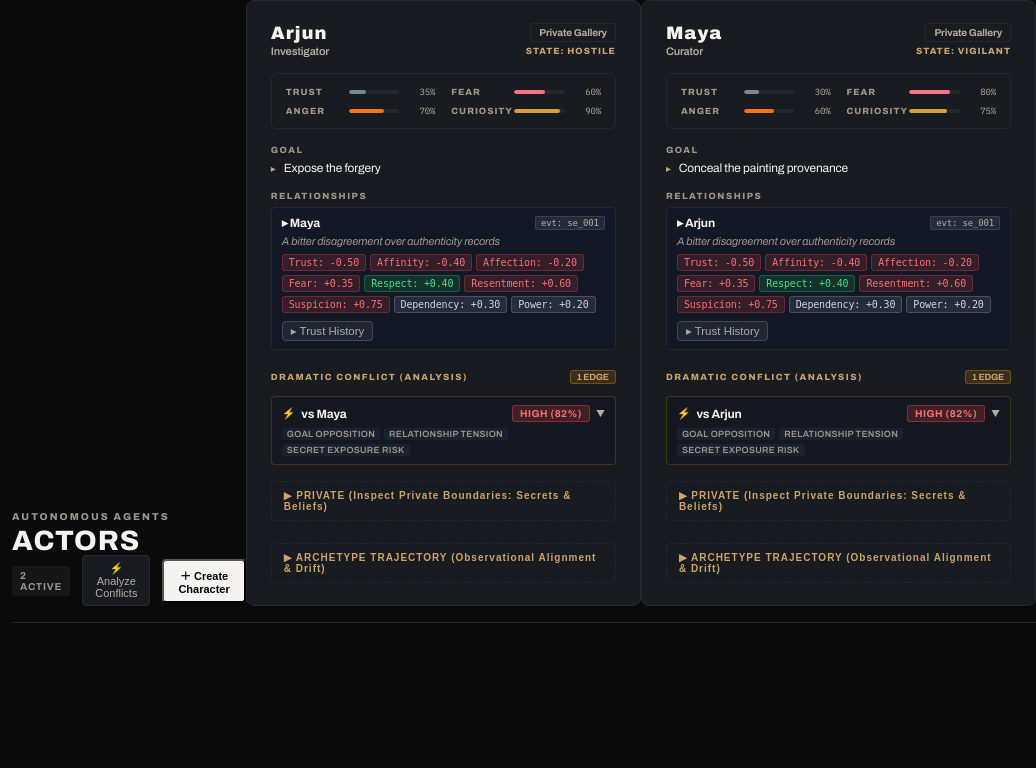
Scenario: Phase D: Conflict Engine & Multidimensional Relationships Frontend › expands and collapses traceable conflict evidence on click
Expected: the text "TRACEABLE CONFLICT EVIDENCE" is not shown
Click to expand evidence
Click the text "vs Maya": (324, 414) 301,407 -> 347,421
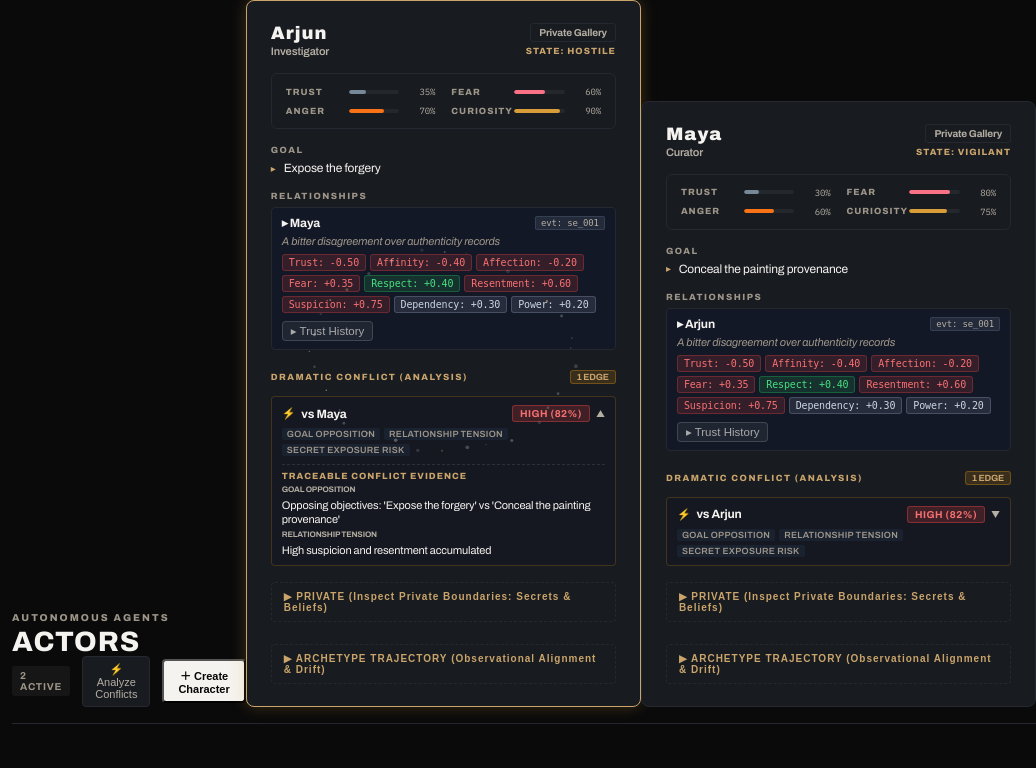
Now the text "TRACEABLE CONFLICT EVIDENCE" is shown, box 282,471 -> 467,481
Now the text "Opposing objectives: 'Expose the forgery'" is shown, box 282,499 -> 590,525
Click again to collapse
Click the text "vs Maya": (324, 414) 301,407 -> 347,421
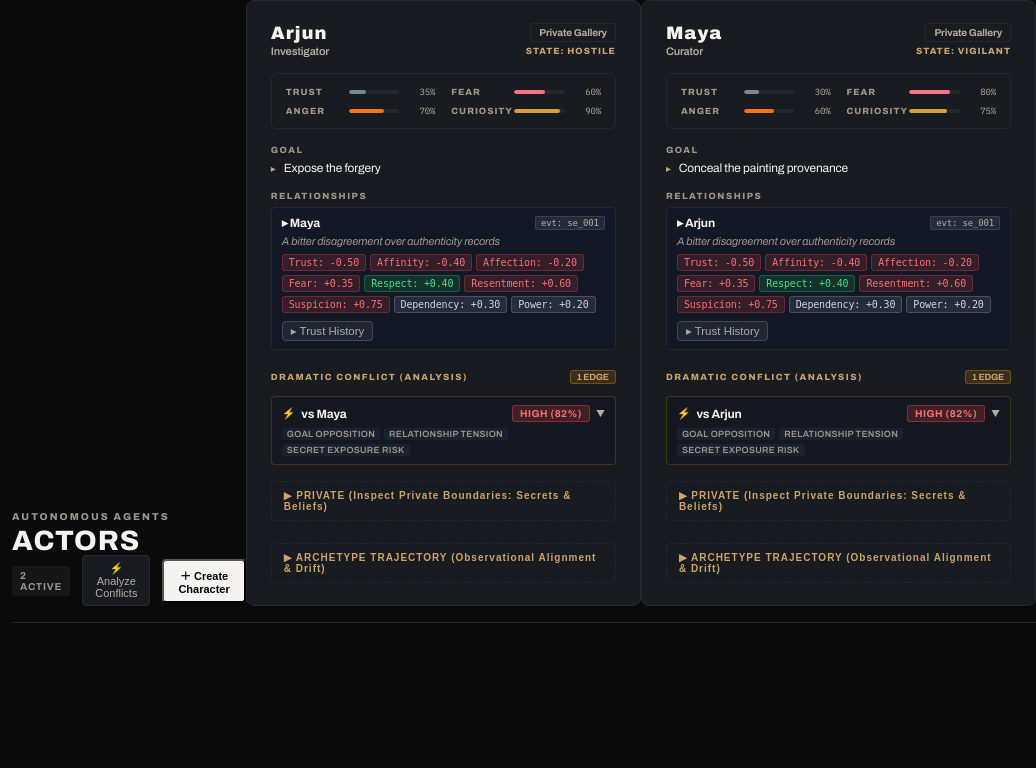
Now the text "TRACEABLE CONFLICT EVIDENCE" is gone
